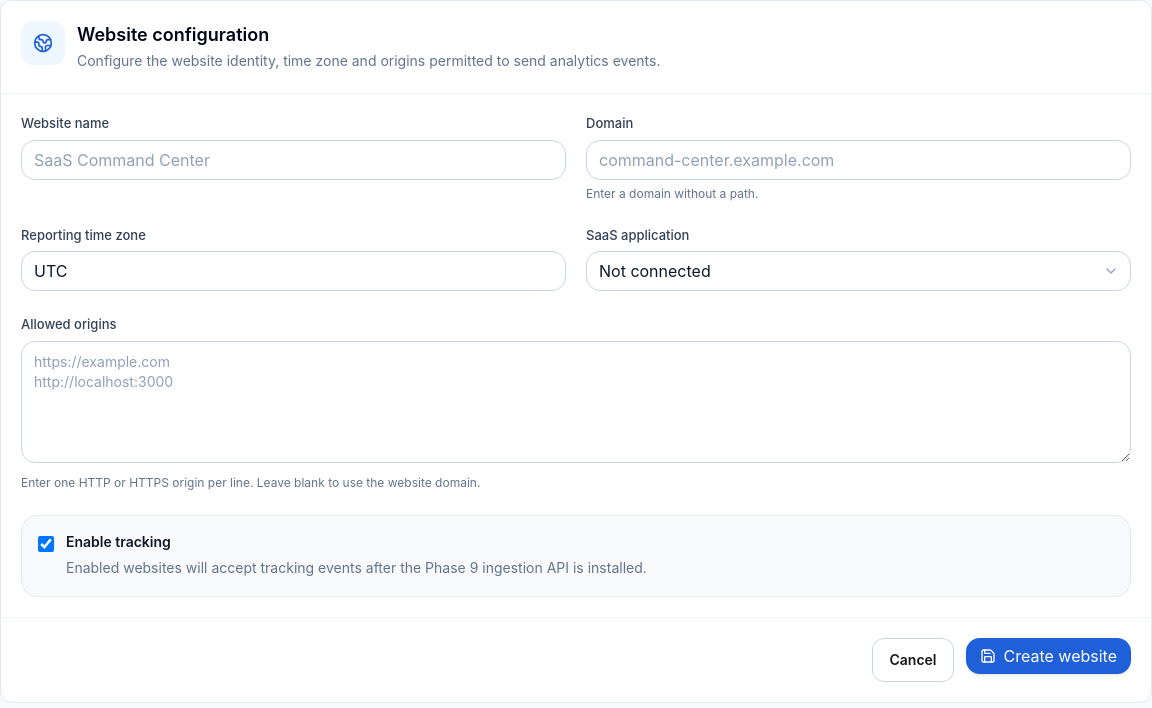
Test case: WebsiteForm validation › blocks submission and shows an alert when the name is too short
Type "a" into the field labelled "Website name". click: [294, 160]
box: [21,140,566,180]
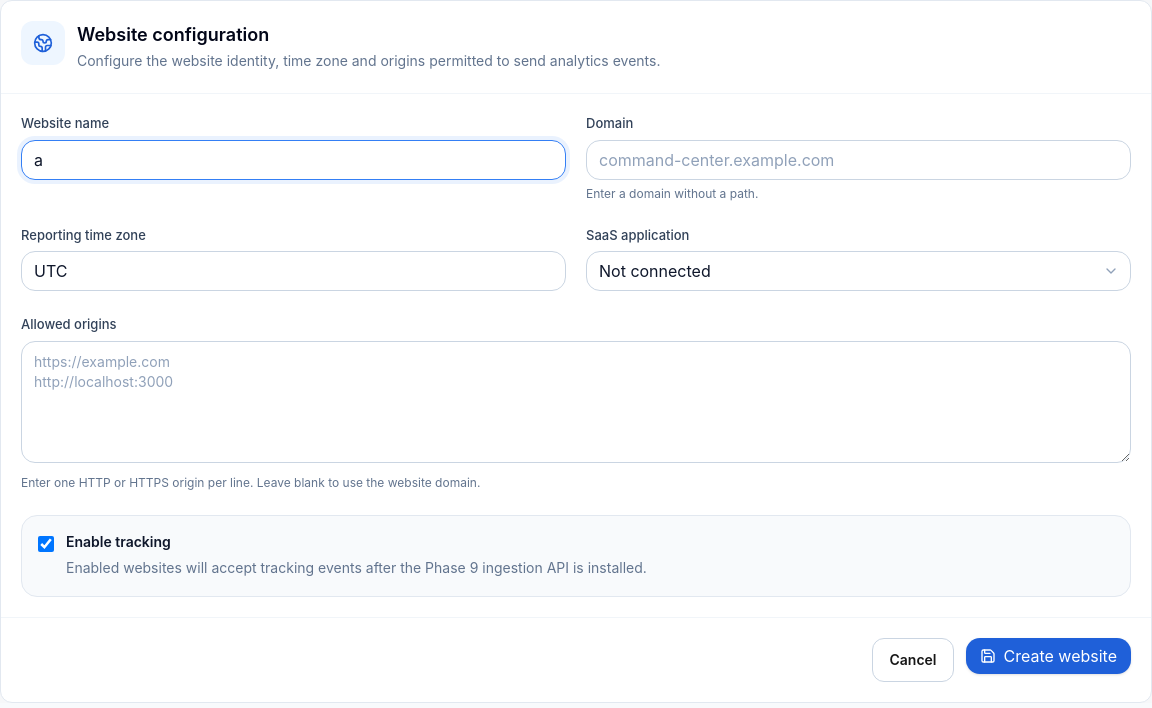
Type "example.com" into the field labelled "Domain". click: [858, 160]
box: [586,140,1131,180]
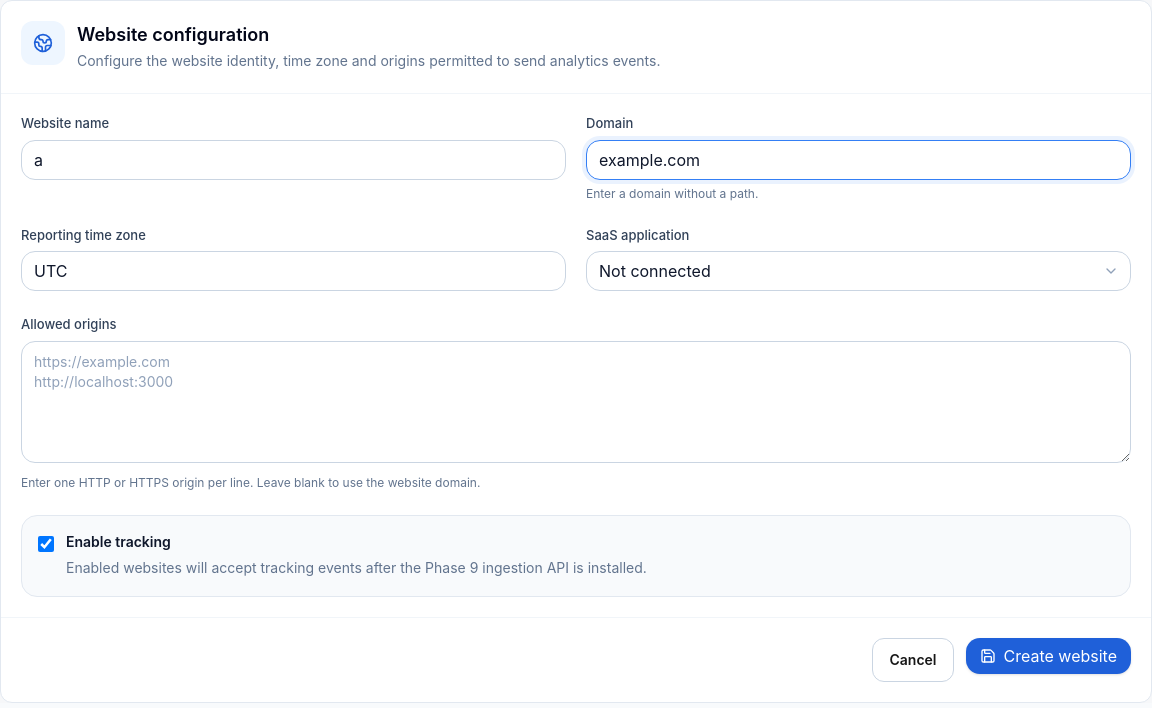
Click the button "Create website". click: [1048, 656]
box: [966,638,1131,674]
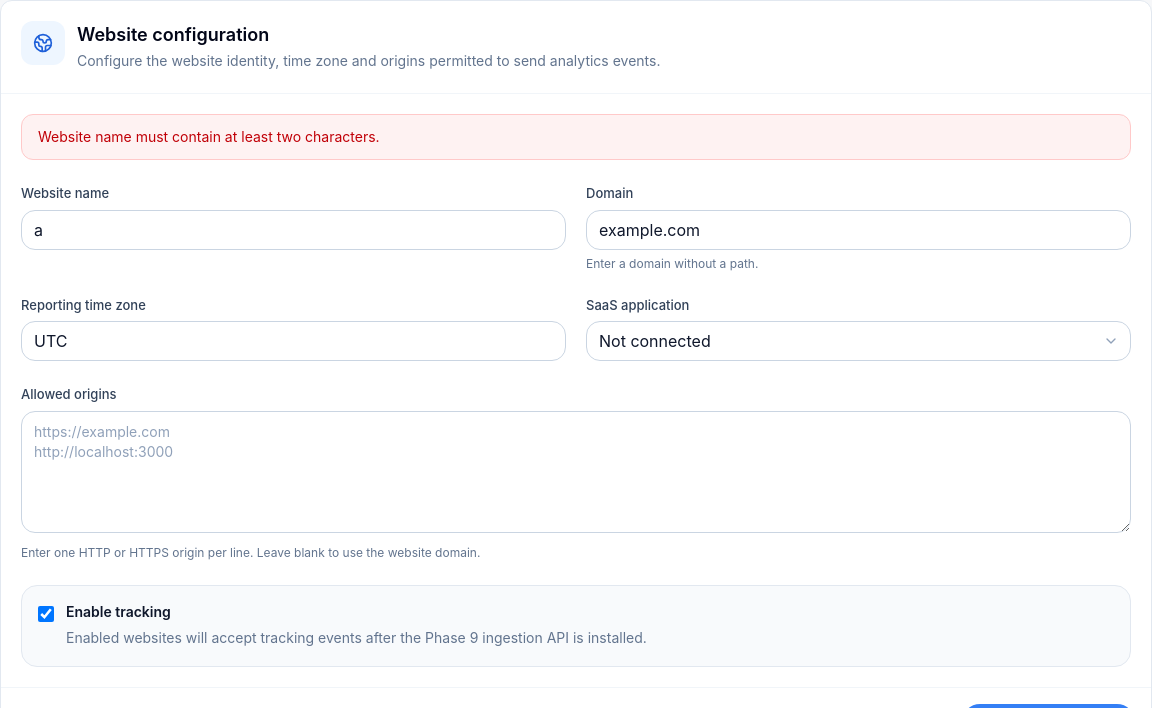
Expected: the message reads "Website name must contain at least two characters.", [38,128,380,145]
